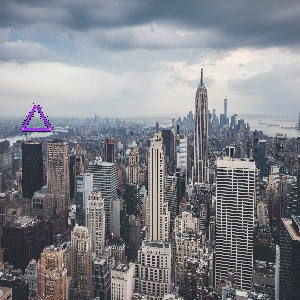triangle: (19, 101, 54, 135)
